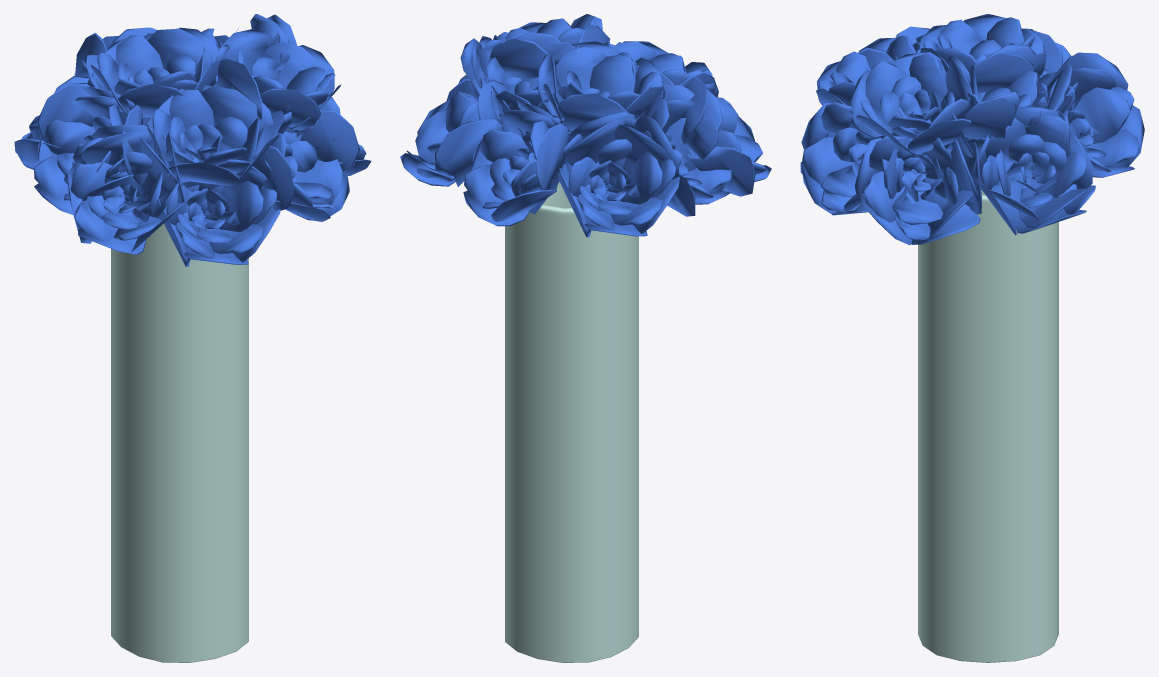
The model's file is bouquet.glb.
The picture shows the model from 3 angles, left to right: view 1: azimuth 30°, elevation 25°; view 2: azimuth 150°, elevation 25°; view 3: azimuth 270°, elevation 25°; orthographic projection. The views are drawn at different scales.
Size of the model in its own units: 2.9 by 5.46 by 2.86.
